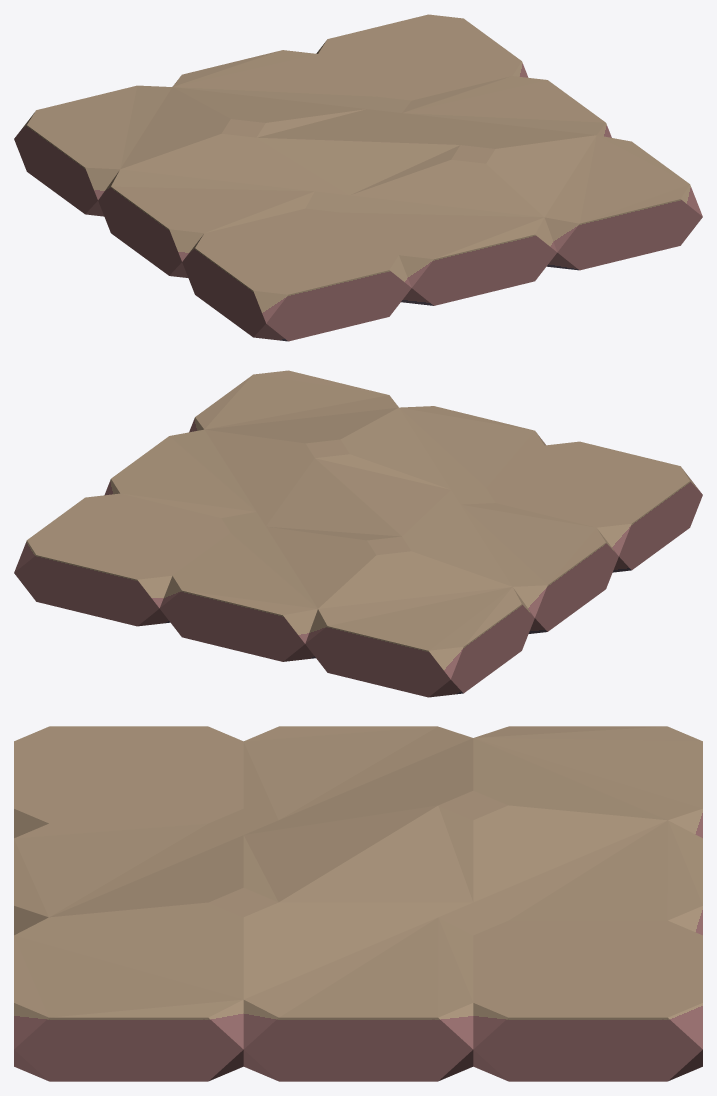
Rendered from Tiles 1.002.fbx.
The picture shows the model from 3 angles, top to bottom: view 1: azimuth 30°, elevation 25°; view 2: azimuth 150°, elevation 25°; view 3: azimuth 270°, elevation 25°; orthographic projection. The views are drawn at different scales.
Parts seen in each view (by area): view 1: Tiles 1.002; view 2: Tiles 1.002; view 3: Tiles 1.002.
Boxes of the visible parts, bbox=[...] form: Tiles 1.002: bbox=[14, 14, 702, 341]; Tiles 1.002: bbox=[14, 370, 702, 697]; Tiles 1.002: bbox=[14, 726, 702, 1081].
Size of the model in its own units: 495 by 64.97 by 495.
